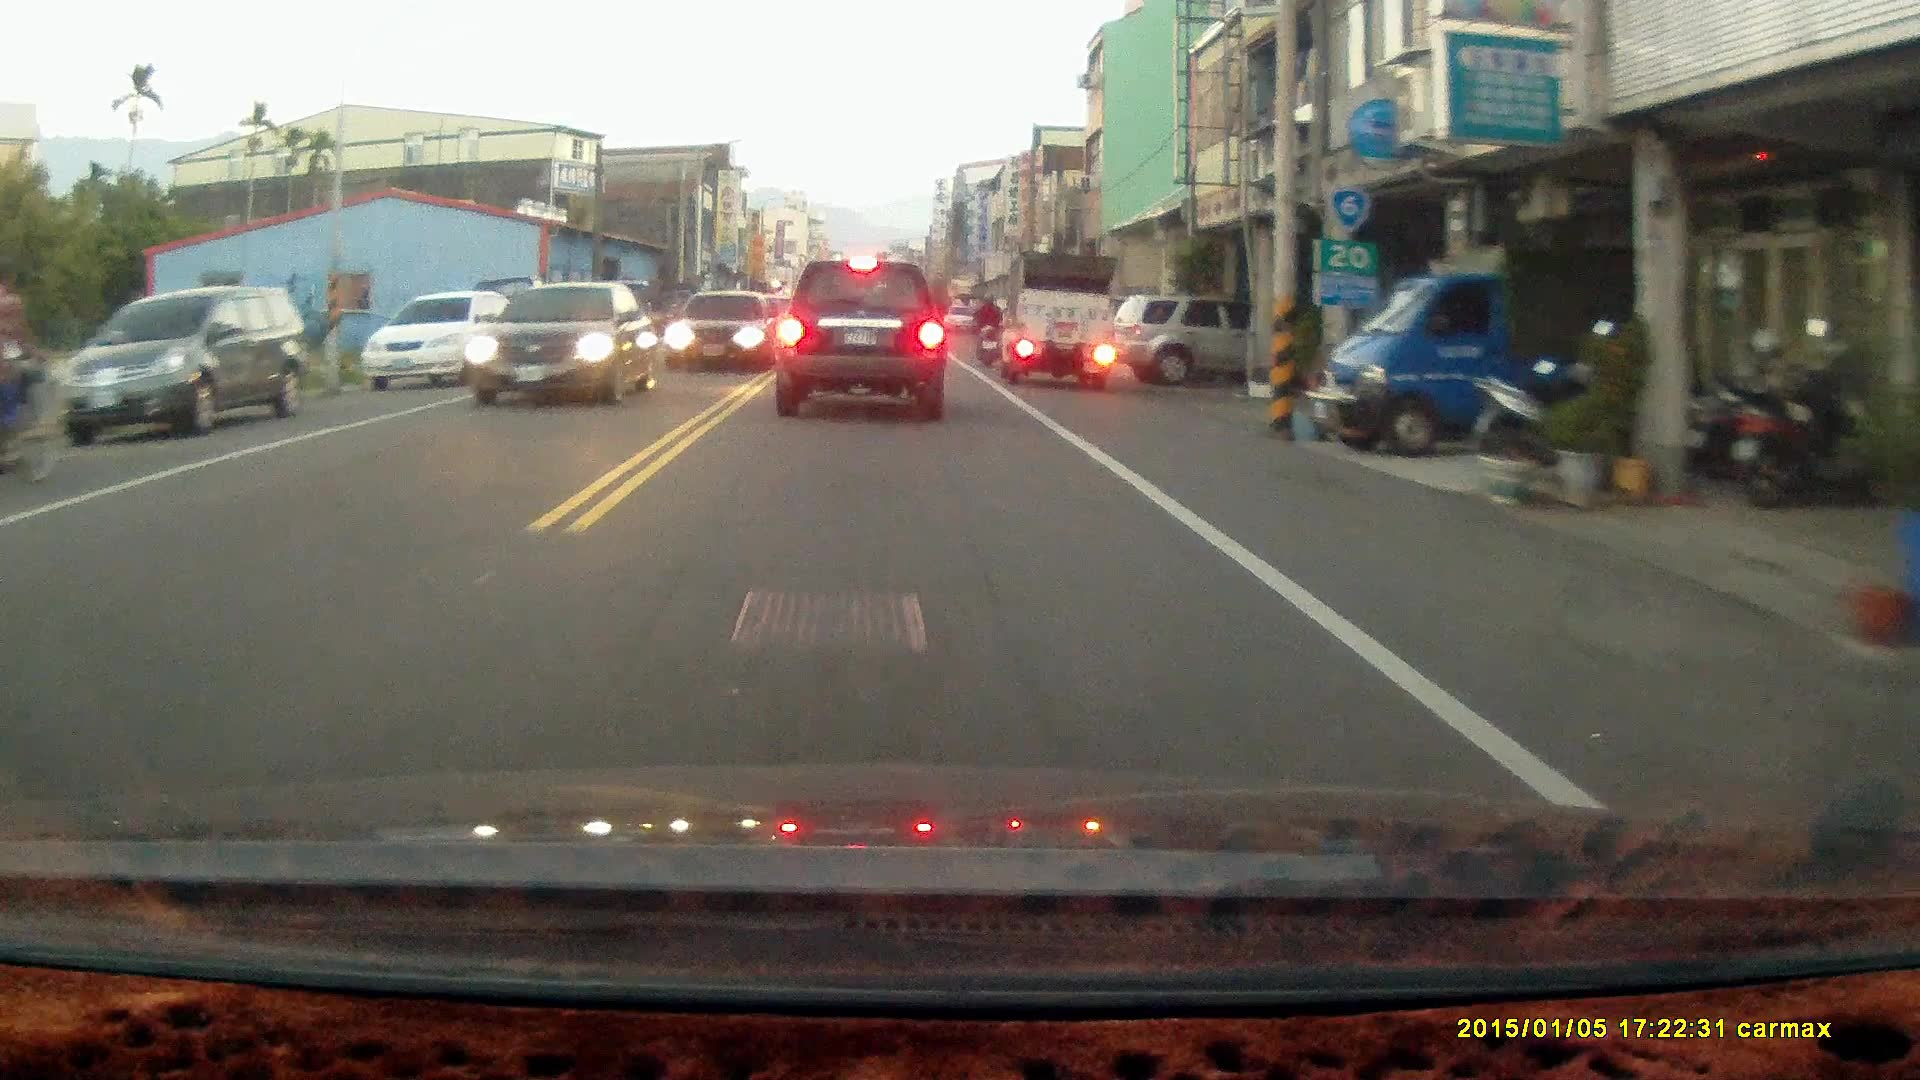rider: (1, 254, 71, 484), (970, 287, 1005, 367)
vehicle: (1326, 207, 1655, 459), (55, 284, 312, 440), (771, 261, 948, 428), (464, 283, 655, 411), (363, 292, 534, 397), (1009, 250, 1117, 387), (1115, 295, 1252, 392), (667, 294, 775, 373)
